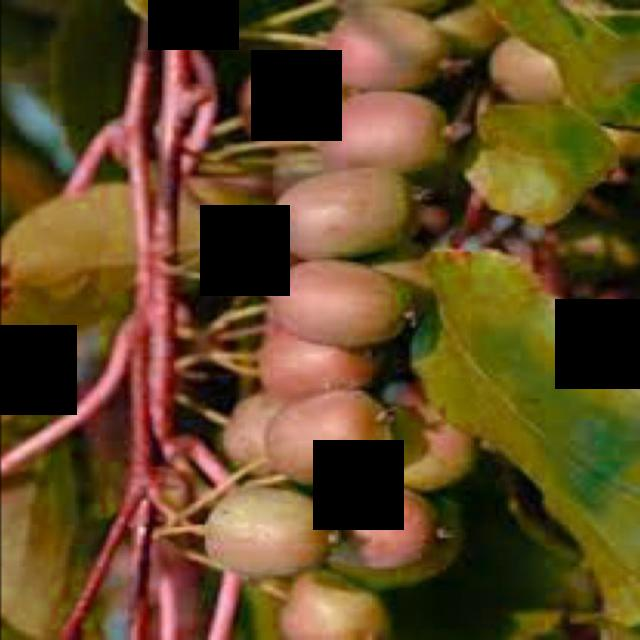kiwi: (264, 169, 416, 258), (360, 381, 475, 489), (267, 256, 406, 345), (199, 487, 335, 576), (261, 392, 391, 484), (307, 481, 437, 568), (320, 93, 450, 177), (236, 61, 357, 148), (217, 392, 335, 479), (323, 12, 443, 88), (258, 327, 382, 387), (276, 573, 388, 639)
